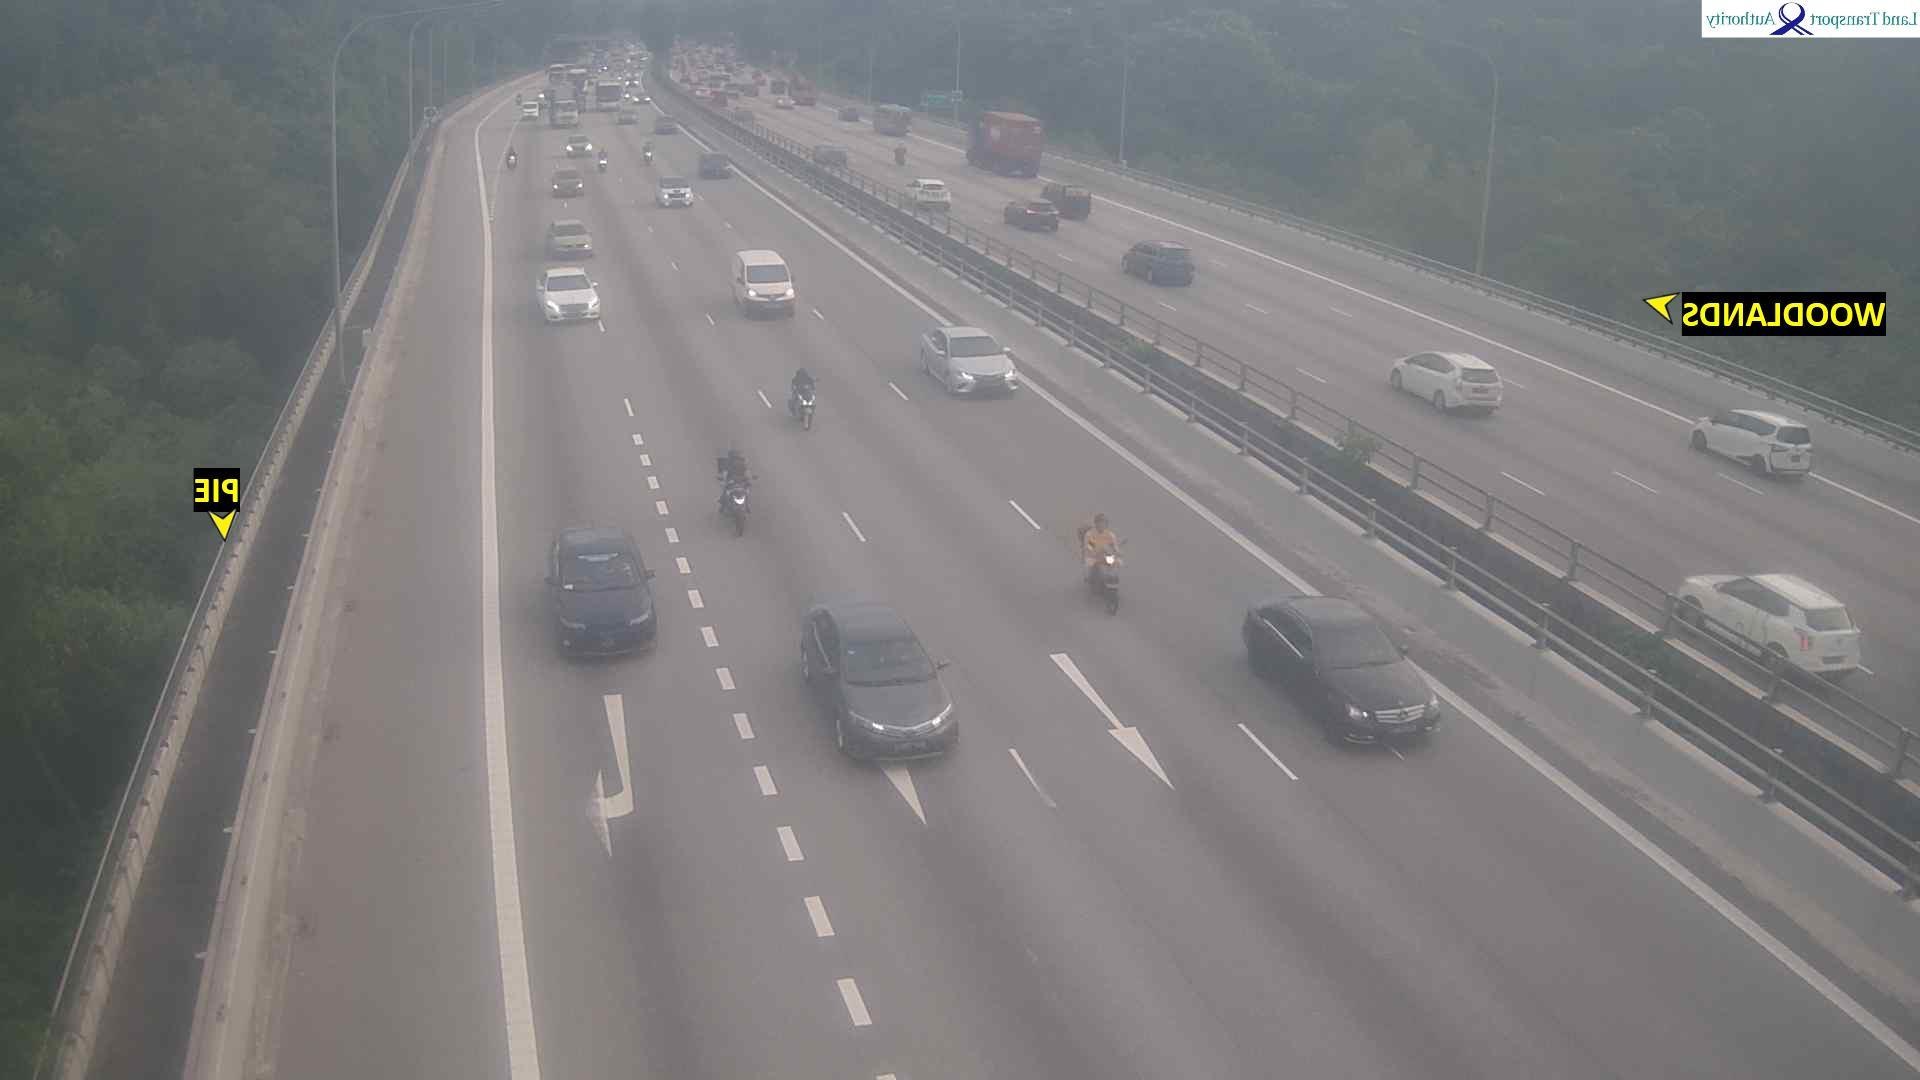incoming: (822, 643, 953, 753), (1317, 636, 1441, 746), (544, 554, 656, 658), (941, 338, 1014, 396), (537, 274, 600, 324), (738, 262, 797, 315), (546, 221, 597, 261), (726, 481, 752, 536), (1100, 546, 1121, 614), (659, 178, 692, 206), (797, 389, 818, 430), (550, 173, 585, 196), (596, 153, 607, 173), (508, 151, 518, 171), (643, 148, 654, 163)
